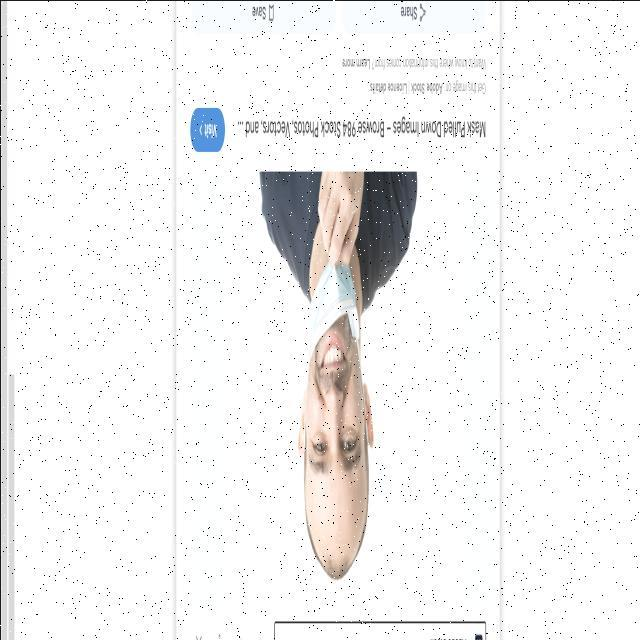face_no_mask: (299, 296, 374, 536)
